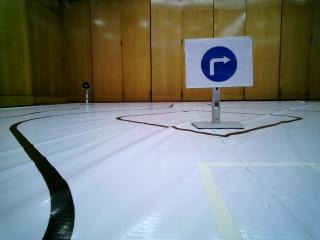right: (185, 39, 251, 85)
